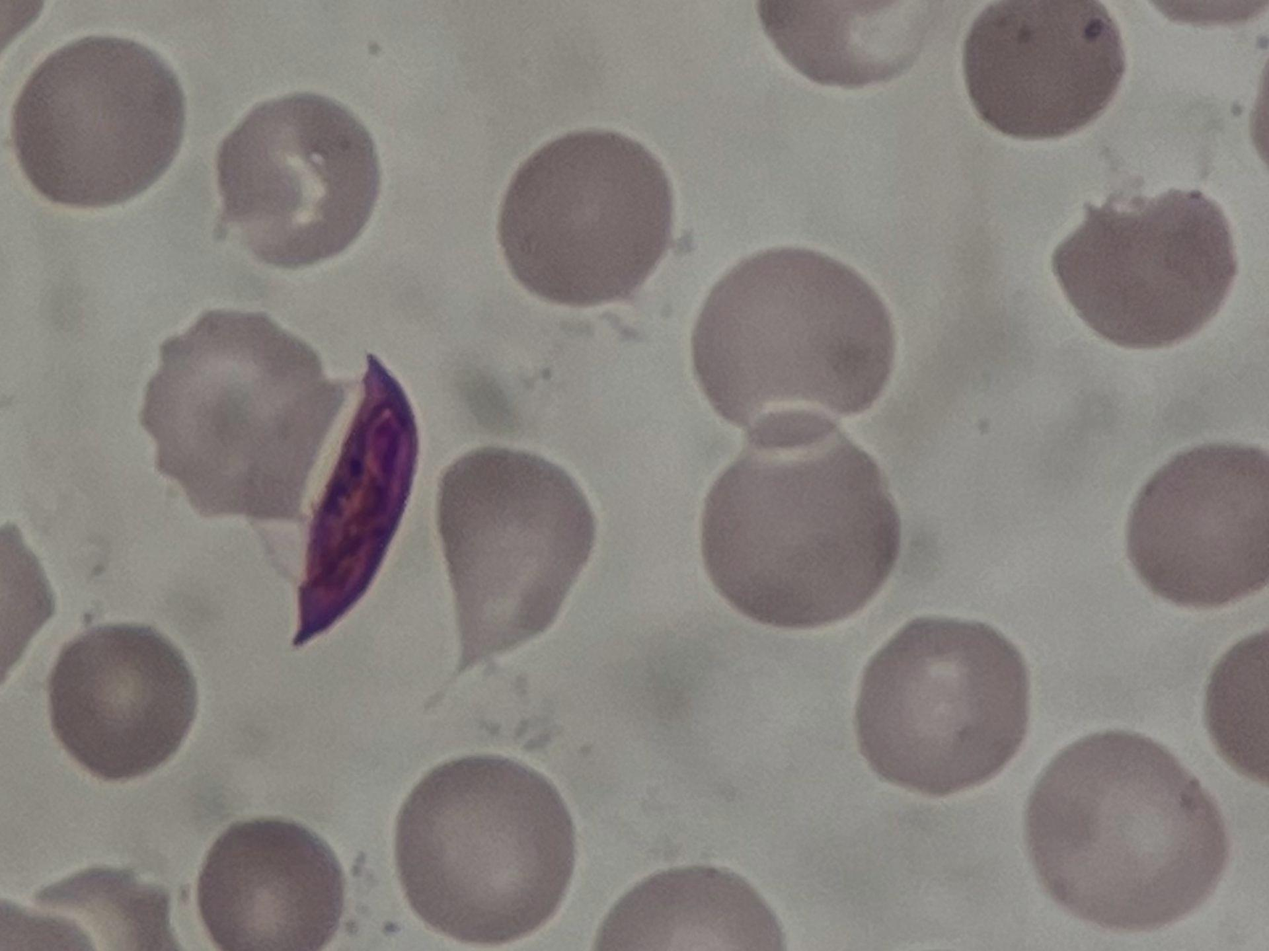Infected: (241, 351, 421, 649)
Uninfected: (699, 403, 901, 629), (140, 309, 343, 520), (691, 245, 896, 444), (1028, 727, 1227, 927), (433, 446, 597, 664), (397, 752, 576, 944), (496, 126, 672, 306), (856, 615, 1025, 798), (12, 33, 186, 209), (1049, 185, 1237, 347), (215, 93, 380, 271), (48, 625, 202, 781), (1127, 443, 1269, 608), (962, 0, 1126, 140), (193, 817, 343, 951)
